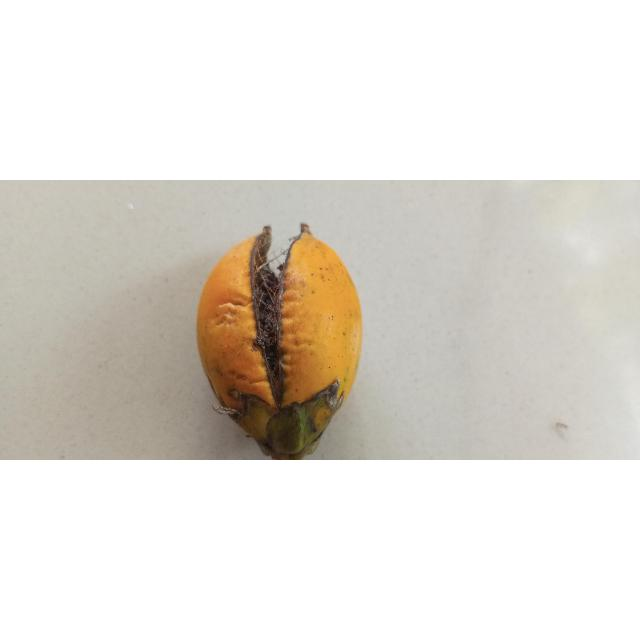damaged: (196, 225, 365, 461)
